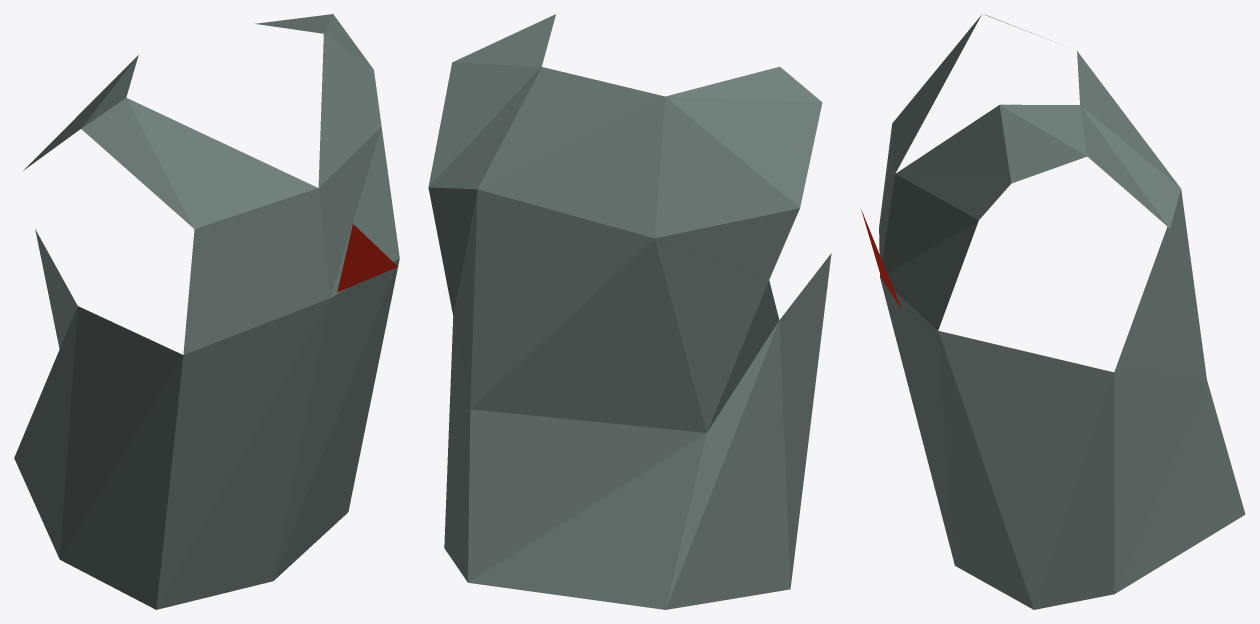
3 views of the same model, side by side, from view 1: azimuth 30°, elevation 25°; view 2: azimuth 150°, elevation 25°; view 3: azimuth 270°, elevation 25° (orthographic). The views are drawn at different scales.
Size of the model in its own units: 0.4984 by 0.7522 by 0.5295.
Materials: 2 (2 with a texture image).
